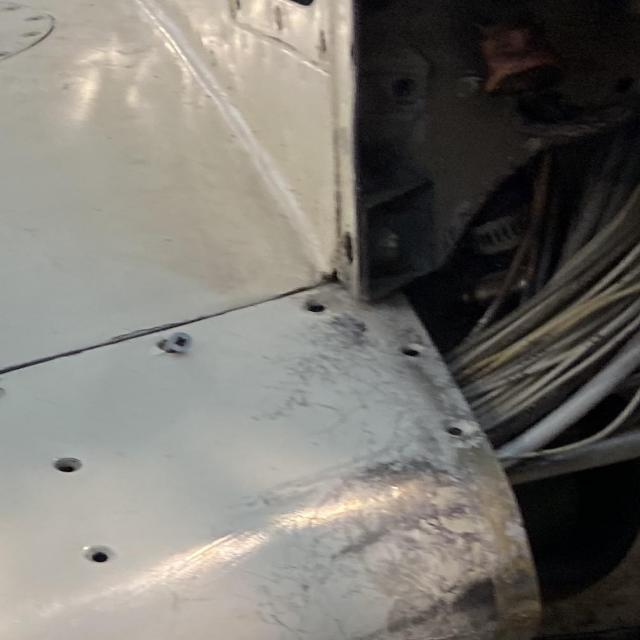Missing-head: (439, 420, 475, 439), (84, 544, 116, 563), (304, 297, 330, 316), (53, 458, 82, 474), (398, 343, 421, 358)
Scratch: (337, 451, 540, 640)
